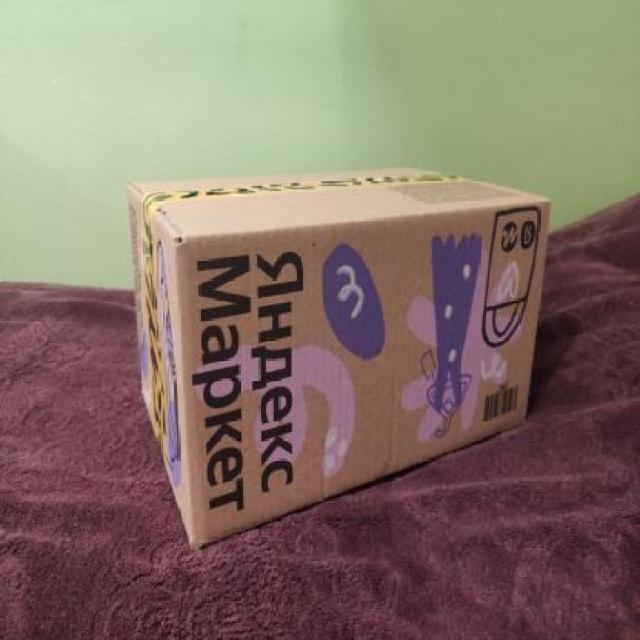box: (132, 145, 550, 548)
